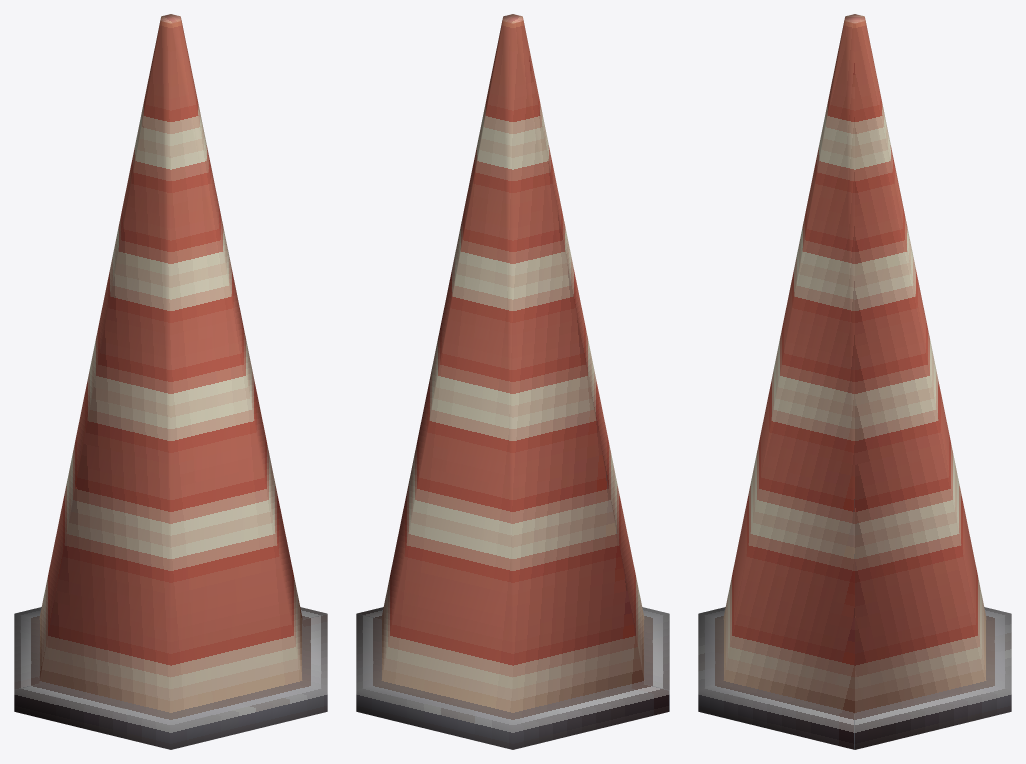
3 views of the same model, side by side, from view 1: azimuth 30°, elevation 25°; view 2: azimuth 150°, elevation 25°; view 3: azimuth 270°, elevation 25° (orthographic).
Visible parts, largest first — view 1: gk_wj017_01; view 2: gk_wj017_01; view 3: gk_wj017_01.
Boxes of the visible parts, box(x1,y1,x2,y2) form: gk_wj017_01: box(14, 14, 327, 749); gk_wj017_01: box(356, 14, 669, 749); gk_wj017_01: box(698, 14, 1011, 749).
Size of the model in its own units: 40.87 by 81.52 by 35.39.
